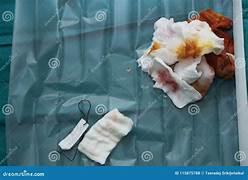Bandage: (78, 109, 132, 163), (59, 119, 88, 149)
cotton: (137, 18, 223, 107), (150, 18, 223, 64), (138, 57, 201, 107), (149, 59, 201, 107), (192, 57, 215, 96), (174, 57, 201, 83)
